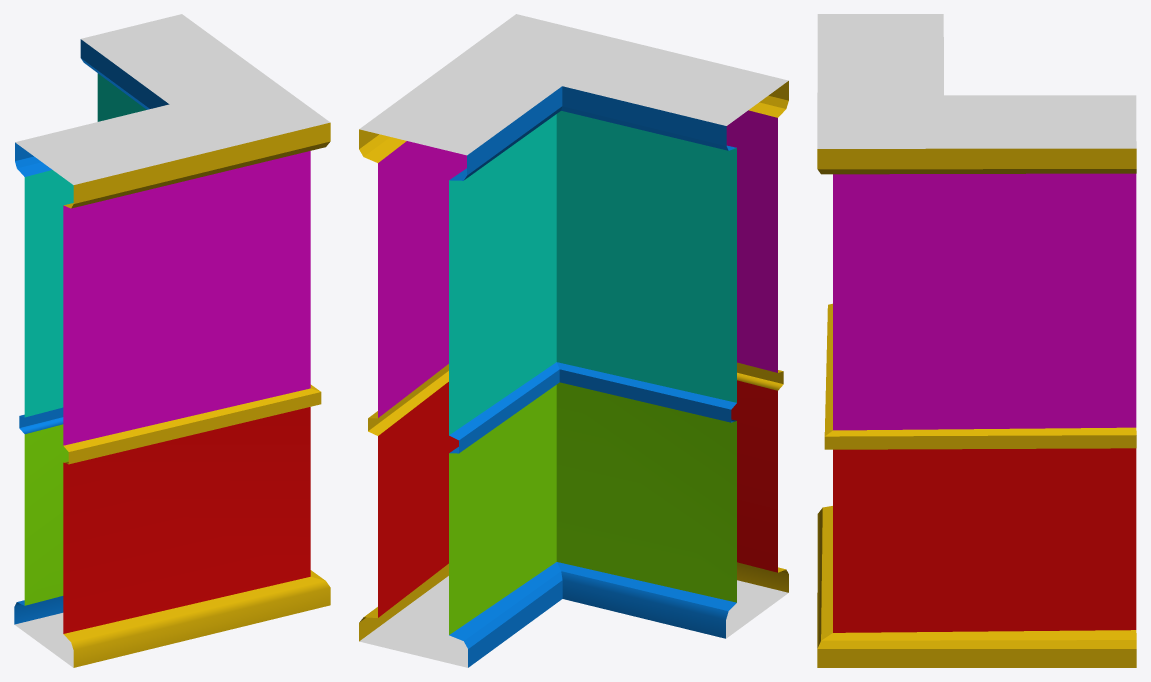
Rendered from Wall_corner.fbx.
The picture shows the model from 3 angles, left to right: view 1: azimuth 30°, elevation 25°; view 2: azimuth 150°, elevation 25°; view 3: azimuth 270°, elevation 25°; orthographic projection. The views are drawn at different scales.
Parts seen in each view (by area): view 1: Cornerwall; view 2: Cornerwall; view 3: Cornerwall.
Boxes of the visible parts, box(x1,y1,x2,y2) form: Cornerwall: box(14, 14, 330, 667); Cornerwall: box(359, 14, 788, 667); Cornerwall: box(817, 14, 1136, 667).
Bounding box in the file's own units: 125 × 225 × 125.
